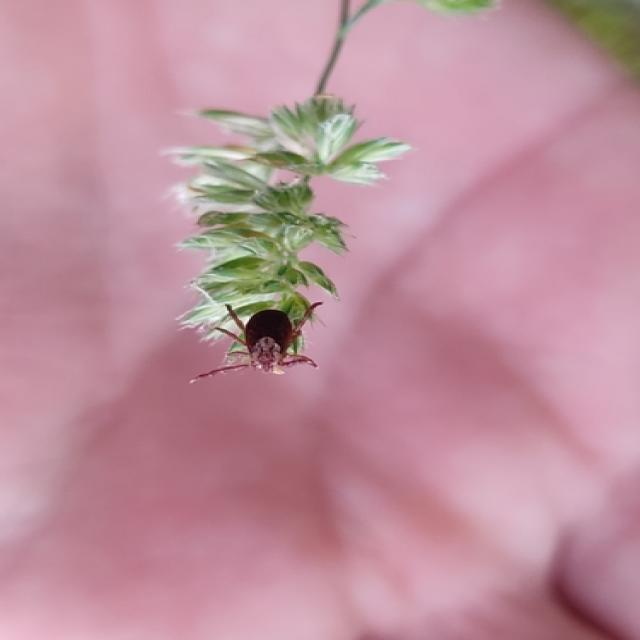Dermacentor Reticulatus-F: (189, 302, 323, 383)
